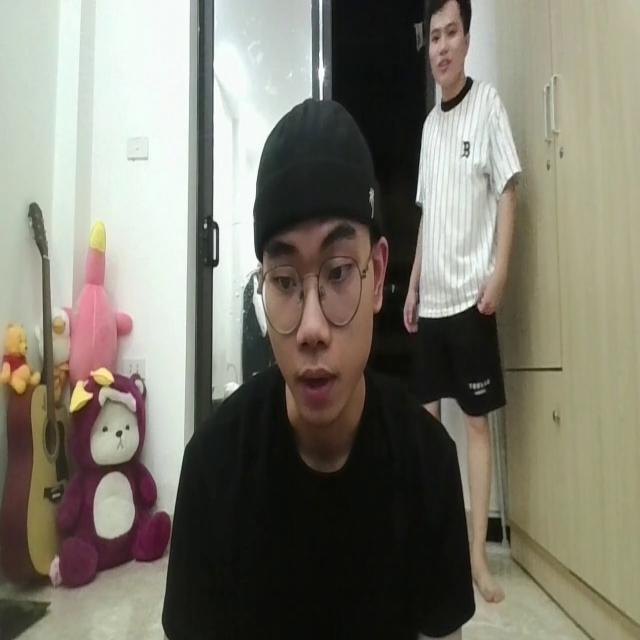extra_person: (401, 4, 528, 472)
student: (163, 90, 462, 640)
